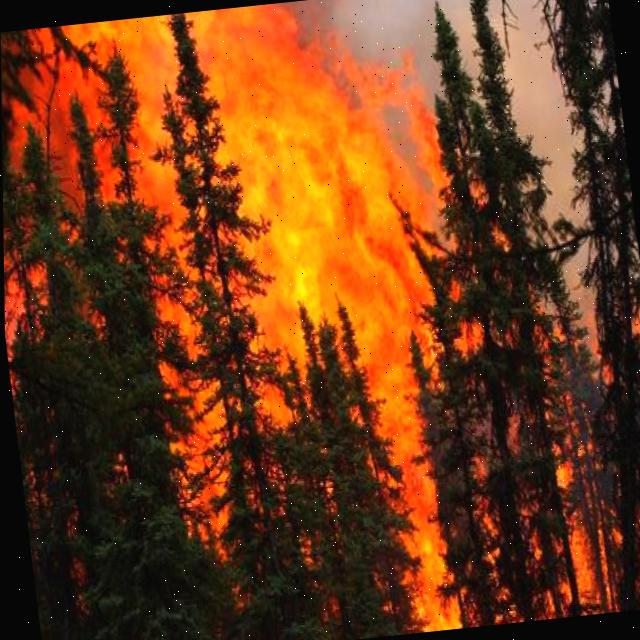fire: (194, 0, 437, 358), (363, 347, 464, 635), (49, 15, 183, 199)
